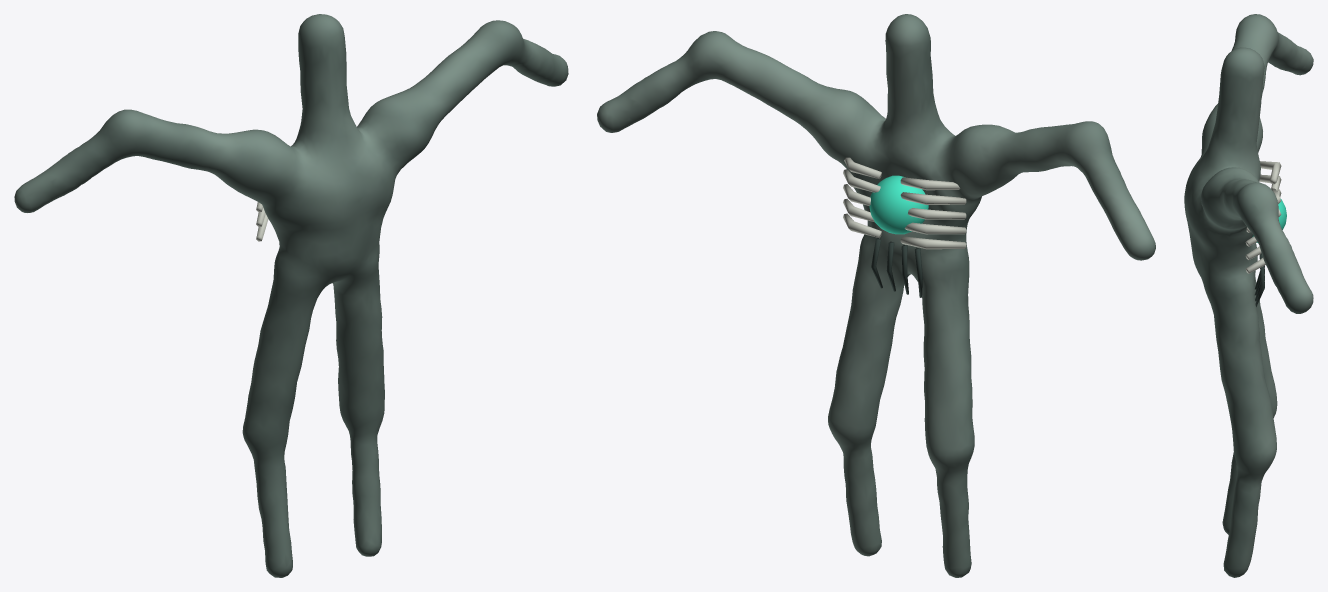
Rendered from moon_lord.glb.
3 views of the same model, side by side, from view 1: azimuth 30°, elevation 25°; view 2: azimuth 150°, elevation 25°; view 3: azimuth 270°, elevation 25° (orthographic). The views are drawn at different scales.
Visible parts, largest first — view 1: moon_lord; view 2: moon_lord; view 3: moon_lord.
Part boxes in pixels (bbox=[...]): moon_lord: bbox=[14, 14, 568, 577]; moon_lord: bbox=[597, 14, 1155, 577]; moon_lord: bbox=[1184, 14, 1313, 577].
Size of the model in its own units: 14.94 by 14.21 by 3.28.
